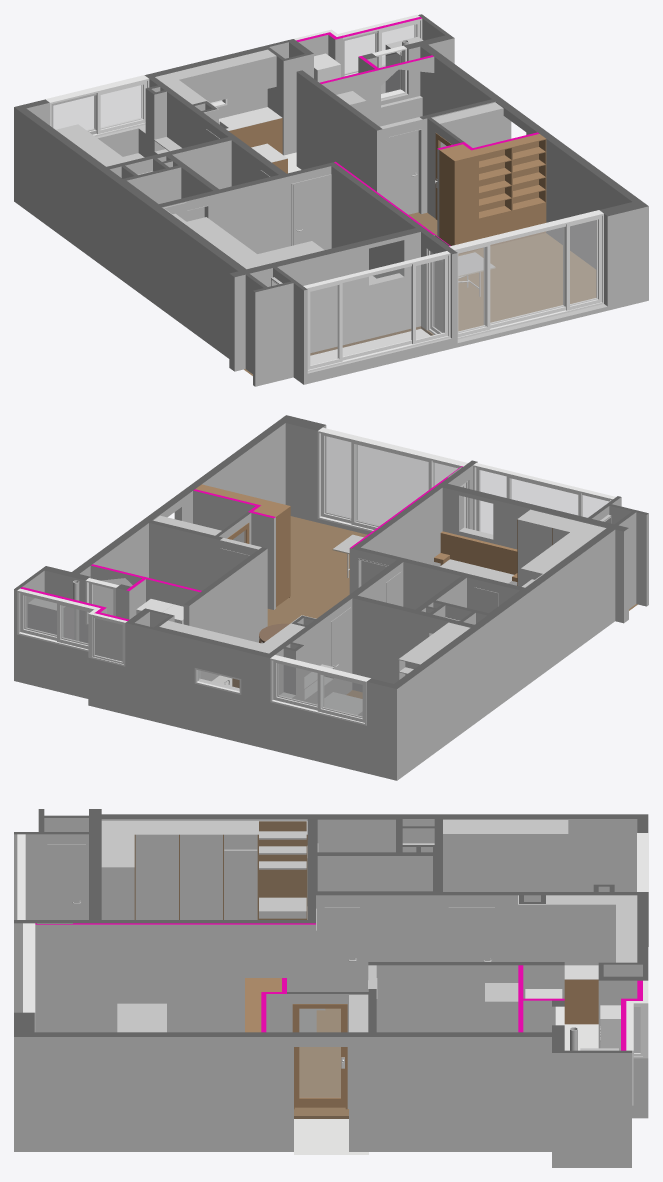
File: jeongja-woosung.glb
3 views of the same model, one above another, from view 1: azimuth 30°, elevation 25°; view 2: azimuth 150°, elevation 25°; view 3: azimuth 270°, elevation 25° (orthographic). The views are drawn at different scales.
Visible parts, largest first — view 1: Mesh6 Group6 Model, Mesh342 Group174 Component_1_1 Model, Mesh7 Group7 Model, Mesh344 Group175 Component_2_1 Model, Mesh1 Group1 Model, Mesh341 Group173 Component_1_1 Model, Mesh156 Group128 Model, Mesh19 Group19 Model, Mesh2 Group2 Model, Mesh4 Group4 Model, Mesh39 Group39 Model, Mesh27 Group27 Model (+50 smaller); view 2: Mesh6 Group6 Model, Mesh17 Group17 Model, Mesh341 Group173 Component_1_1 Model, Mesh1 Group1 Model, Mesh9 Group9 Model, Mesh342 Group174 Component_1_1 Model, Mesh156 Group128 Model, Mesh11 Group11 Model, Mesh25 Group25 Model, Mesh19 Group19 Model, Mesh7 Group7 Model, Mesh2 Group2 Model (+40 smaller); view 3: Mesh1 Group1 Model, Mesh14 Group14 Model, Mesh117 Group77 Model, Mesh77 Group65 Model, Mesh6 Group6 Model, Mesh15 Group15 Model, Mesh19 Group19 Model, Mesh71 Group59 Model, Mesh12 Group12 Model, Mesh156 Group128 Model, Mesh5 Group5 Model, Mesh16 Group16 Model (+40 smaller).
Boxes of the visible parts, <box> form: Mesh6 Group6 Model: <box>14,105,245,358</box>; Mesh342 Group174 Component_1_1 Model: <box>456,216,601,337</box>; Mesh7 Group7 Model: <box>229,228,420,371</box>; Mesh344 Group175 Component_2_1 Model: <box>308,255,448,369</box>; Mesh1 Group1 Model: <box>526,122,648,310</box>; Mesh341 Group173 Component_1_1 Model: <box>458,219,597,332</box>; Mesh156 Group128 Model: <box>244,152,596,375</box>; Mesh19 Group19 Model: <box>296,70,382,195</box>; Mesh2 Group2 Model: <box>328,162,448,330</box>; Mesh4 Group4 Model: <box>158,171,289,253</box>; Mesh39 Group39 Model: <box>471,134,546,249</box>; Mesh27 Group27 Model: <box>253,281,293,386</box>; Mesh6 Group6 Model: <box>389,527,615,780</box>; Mesh17 Group17 Model: <box>155,627,268,748</box>; Mesh341 Group173 Component_1_1 Model: <box>321,433,459,529</box>; Mesh1 Group1 Model: <box>174,415,326,523</box>; Mesh9 Group9 Model: <box>270,678,393,778</box>; Mesh342 Group174 Component_1_1 Model: <box>325,436,457,526</box>; Mesh156 Group128 Model: <box>212,516,637,698</box>; Mesh11 Group11 Model: <box>353,595,459,691</box>; Mesh25 Group25 Model: <box>17,635,125,714</box>; Mesh19 Group19 Model: <box>183,547,267,681</box>; Mesh7 Group7 Model: <box>442,484,628,623</box>; Mesh2 Group2 Model: <box>351,466,469,592</box>; Mesh1 Group1 Model: <box>14,1012,293,1151</box>; Mesh14 Group14 Model: <box>294,1032,551,1151</box>; Mesh117 Group77 Model: <box>73,923,315,1032</box>; Mesh77 Group65 Model: <box>134,820,307,919</box>; Mesh6 Group6 Model: <box>101,814,648,919</box>; Mesh15 Group15 Model: <box>552,1025,631,1167</box>; Mesh19 Group19 Model: <box>368,962,564,1032</box>; Mesh71 Group59 Model: <box>443,820,551,891</box>; Mesh12 Group12 Model: <box>323,891,446,991</box>; Mesh156 Group128 Model: <box>294,1008,598,1154</box>; Mesh5 Group5 Model: <box>317,852,432,891</box>; Mesh16 Group16 Model: <box>447,892,648,965</box>.
Bounding box in the file's own units: 10454 × 2380 × 11510.
